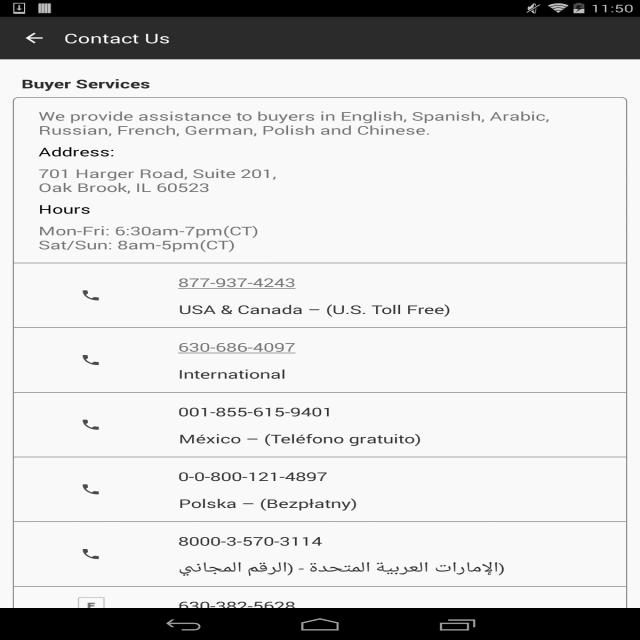ImageButton: (0, 19, 60, 57)
ImageView: (78, 287, 104, 304), (78, 352, 104, 369), (78, 481, 104, 498), (78, 546, 104, 563), (78, 597, 104, 614), (78, 417, 104, 433)
TextView: (30, 102, 627, 144), (13, 70, 627, 97), (30, 160, 291, 200), (30, 217, 273, 258), (170, 554, 514, 582), (170, 296, 459, 322), (170, 425, 429, 452), (170, 489, 365, 516), (170, 462, 336, 490), (170, 398, 341, 425), (170, 528, 330, 554), (170, 268, 304, 296), (170, 334, 304, 361), (170, 592, 304, 619), (170, 360, 294, 388), (64, 29, 170, 47), (30, 143, 123, 160), (30, 201, 99, 217)
